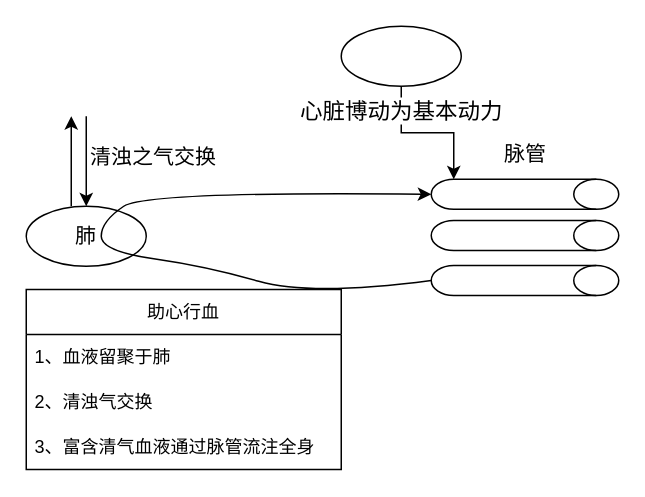
The diagram is 645 pixels wide and 497 high, and some of its shapes have lost their labels. Each missing label, with the centre of its shape:
心脏: [400,55]
血液: [524,280]
